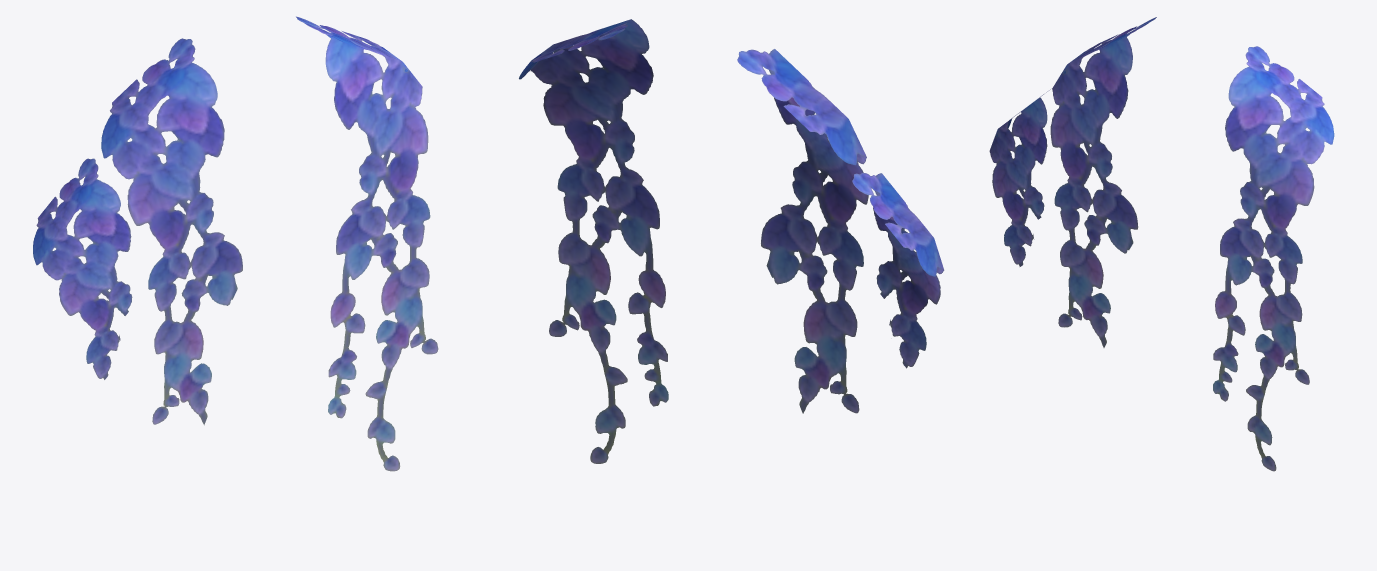
File: sea_etc_14.FBX
The picture shows the model from 3 angles, left to right: view 1: azimuth 30°, elevation 25°; view 2: azimuth 150°, elevation 25°; view 3: azimuth 330°, elevation 25°; orthographic projection. The views are drawn at different scales.
Visible parts, largest first — view 1: Object174; view 2: Object174; view 3: Object174.
Part boxes in pixels (x1,y1,x2,y2): Object174: (33,16,438,471); Object174: (519,19,944,463); Object174: (989,17,1334,471).
Bounding box in the file's own units: 153 × 28.04 × 192.
